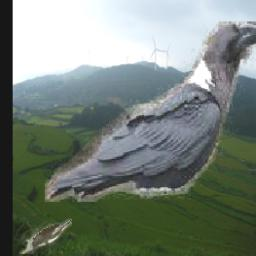Crow: (46, 21, 256, 202)
Cuckoo: (19, 220, 72, 255)
